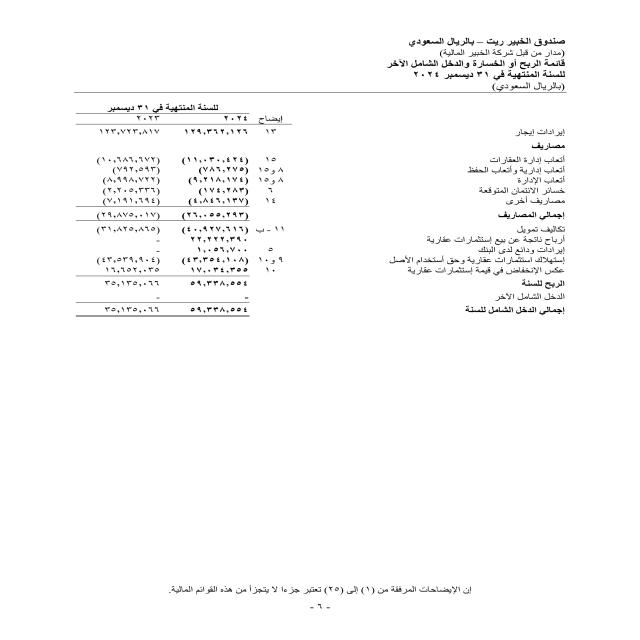financial_sheets: (384, 57, 574, 68)
table: (32, 86, 330, 332)
